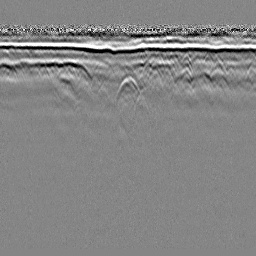cavity: (114, 72, 140, 108)
